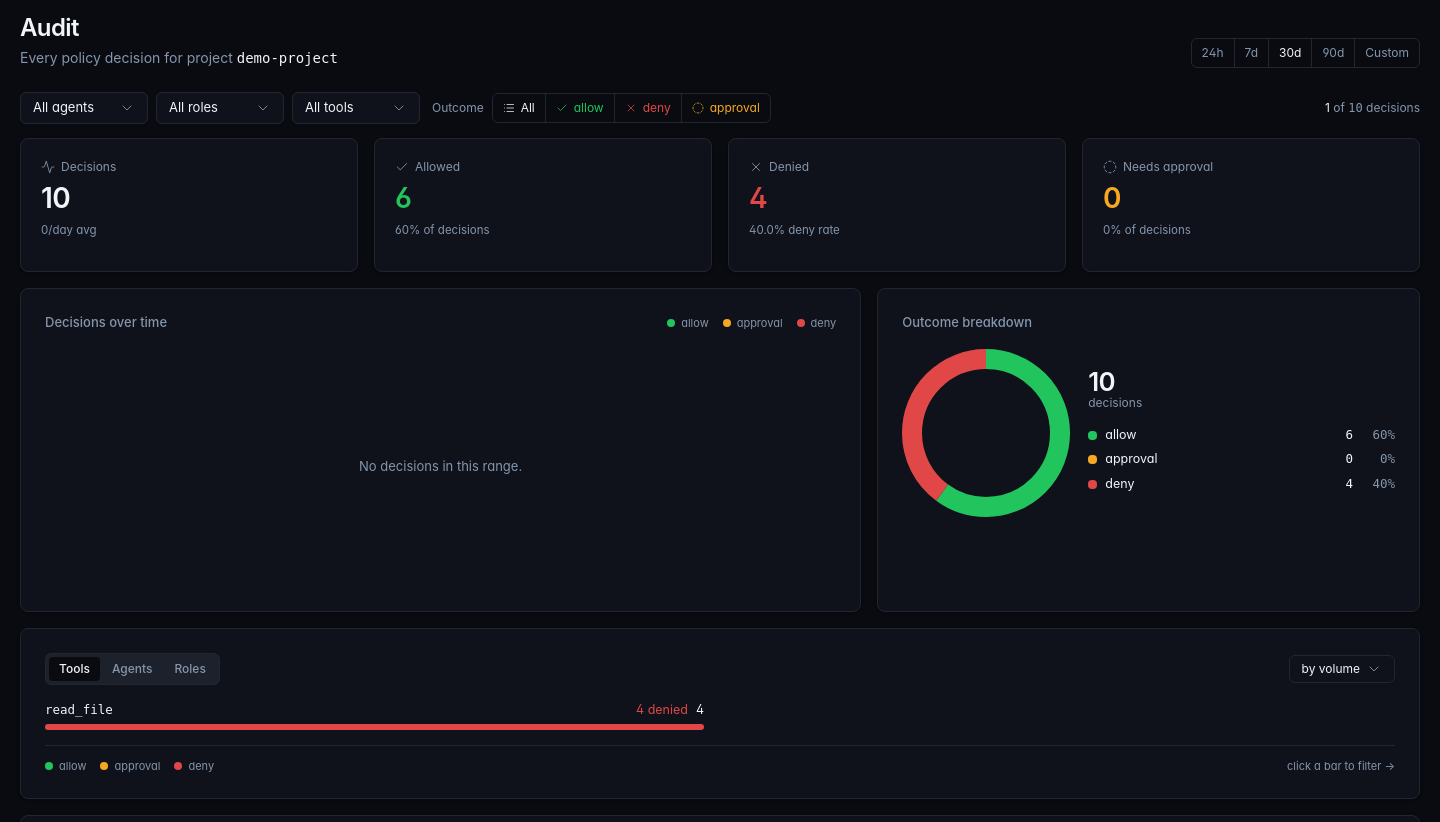
it: AuditPage › outcome KPI card toggles the outcome filter
Click the text "Denied".
click(789, 167)  # box [769,159,809,175]
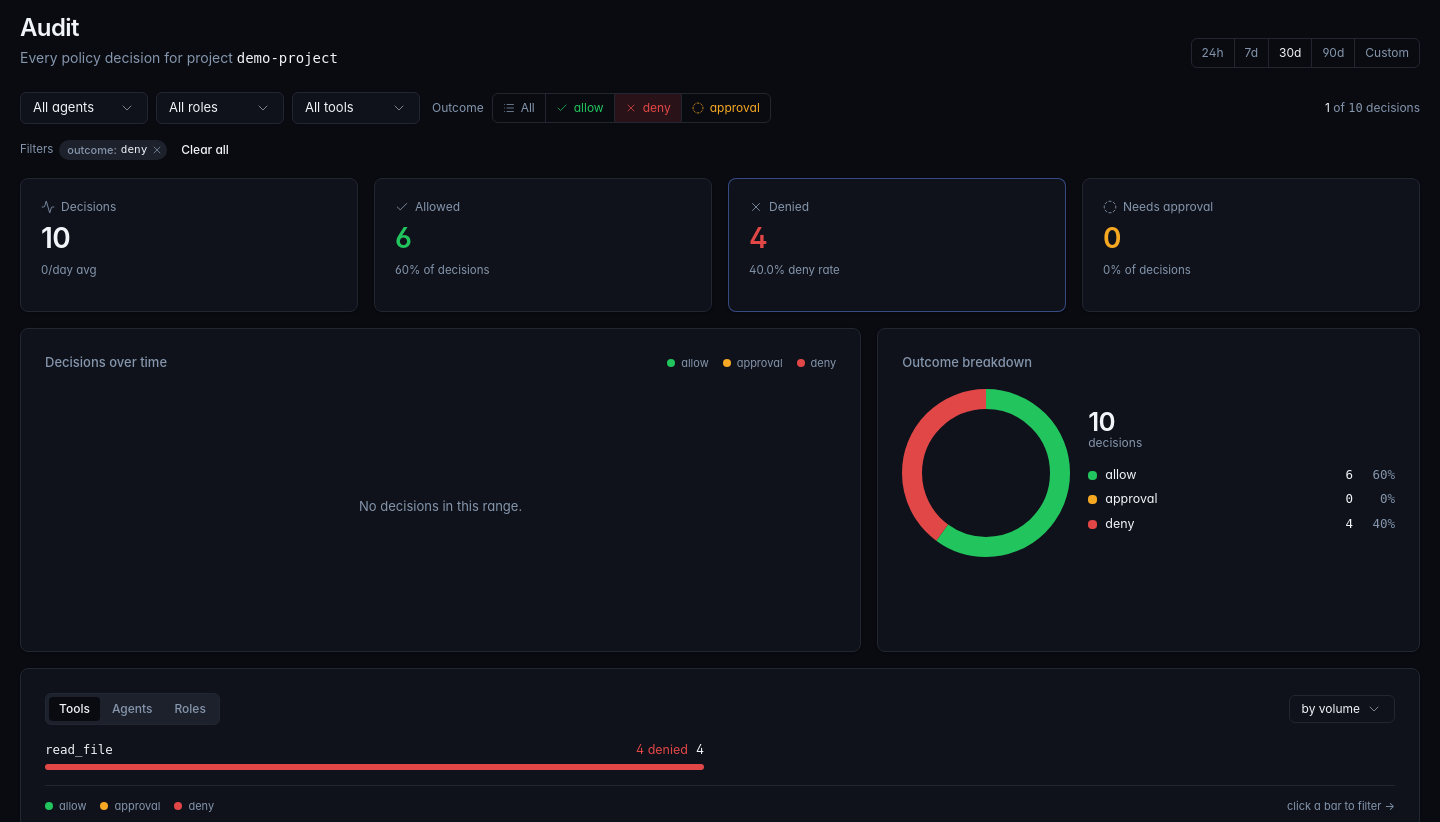
Expected: the button "Clear all" is shown, [173,138,237,162]
# Off: clicking the same card clears the filter again.
Click the text "Denied".
click(789, 207)  # box [769,199,809,215]
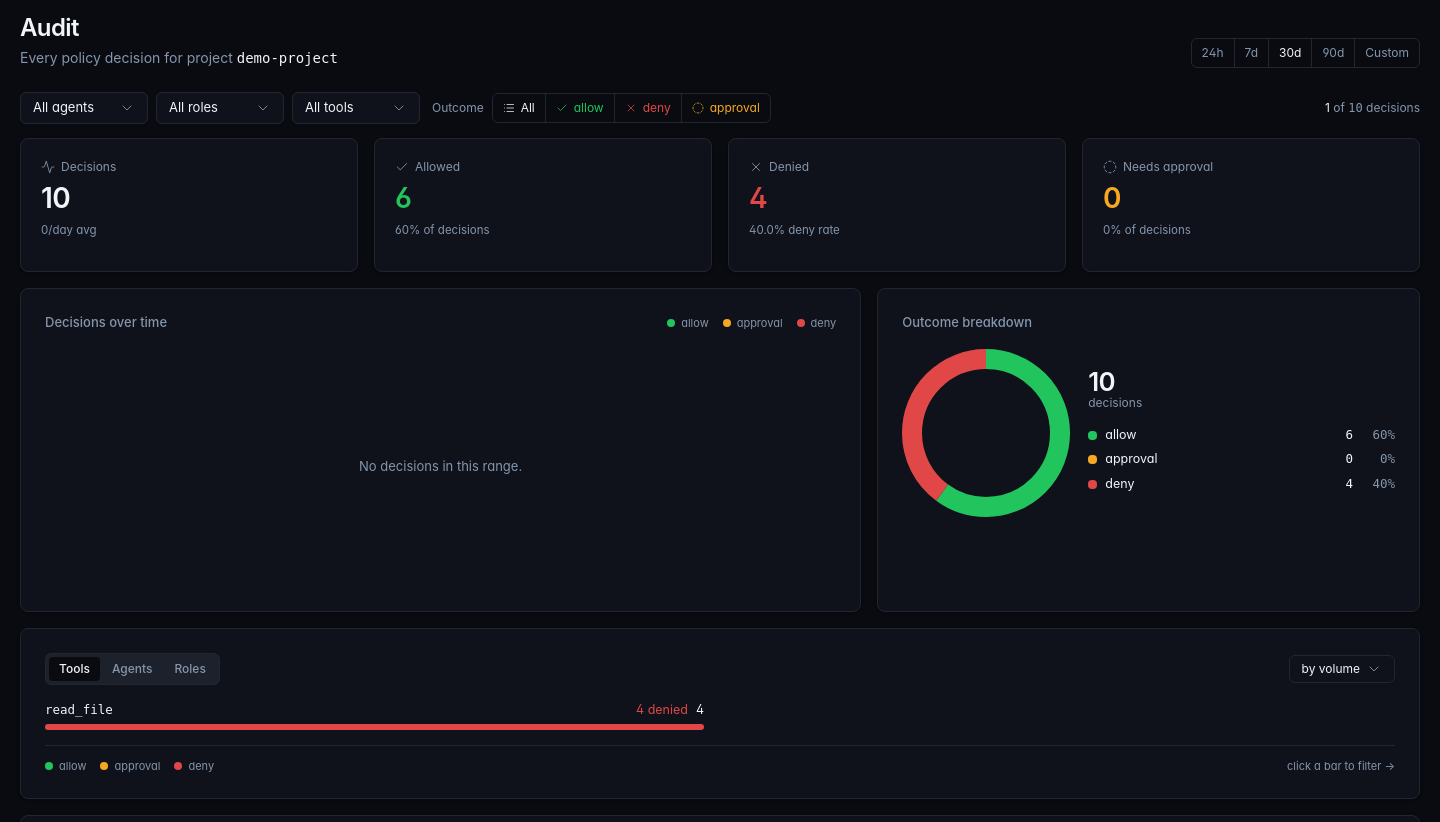
Expected: the button "Clear all" is gone
